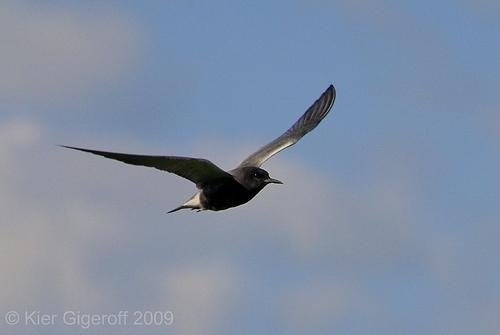bird: (54, 83, 337, 213)
